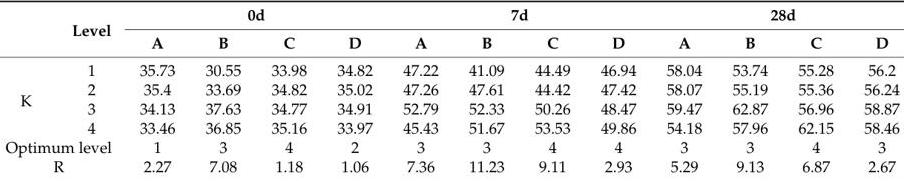table: (4, 5, 899, 176)
table column: (51, 5, 125, 176), (189, 5, 255, 176), (255, 5, 321, 176), (321, 5, 387, 176), (387, 5, 453, 176), (453, 5, 519, 176), (519, 5, 585, 176), (650, 5, 716, 176), (716, 5, 782, 176), (782, 5, 848, 176), (585, 5, 650, 176), (125, 5, 189, 176), (848, 5, 899, 176), (4, 5, 51, 176)
table column header: (4, 5, 899, 56)
table row: (4, 28, 899, 56), (4, 5, 899, 28), (4, 56, 899, 79), (4, 79, 899, 99), (4, 156, 899, 176), (4, 99, 899, 118), (4, 118, 899, 137), (4, 137, 899, 156)
table spanning cell: (387, 5, 650, 28), (125, 5, 387, 28), (650, 5, 899, 28), (4, 56, 51, 137), (51, 5, 125, 56), (4, 156, 125, 176), (4, 137, 125, 156)
